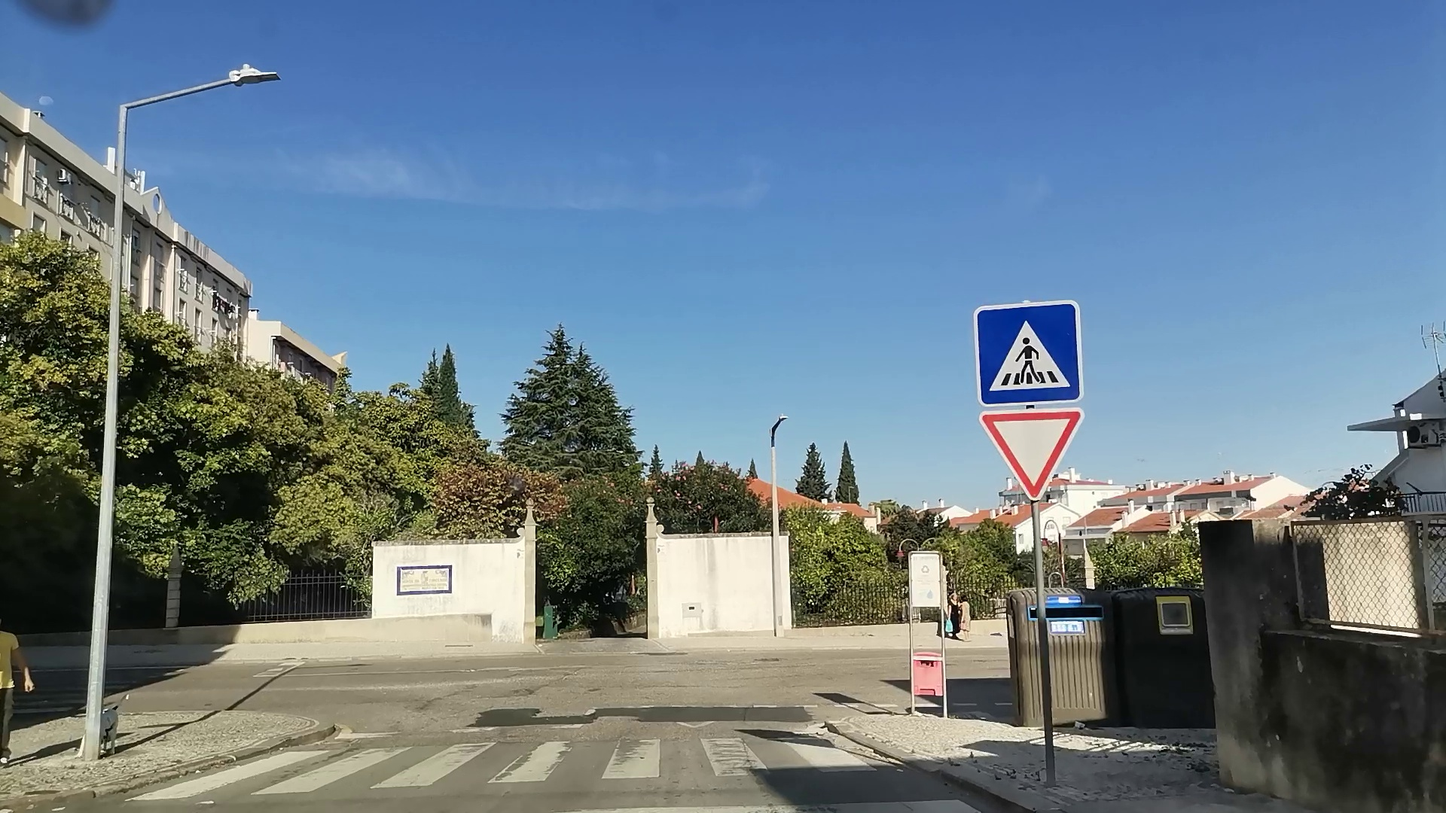Stairs: (124, 734, 881, 798)
